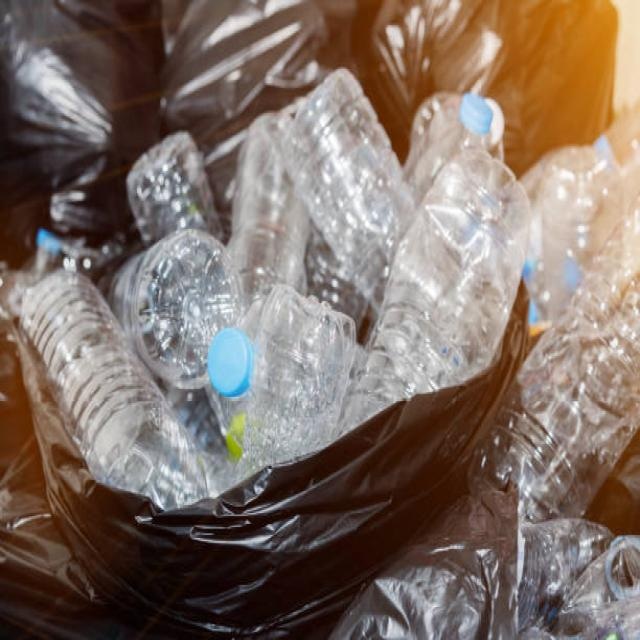plastic: (58, 94, 434, 422)
